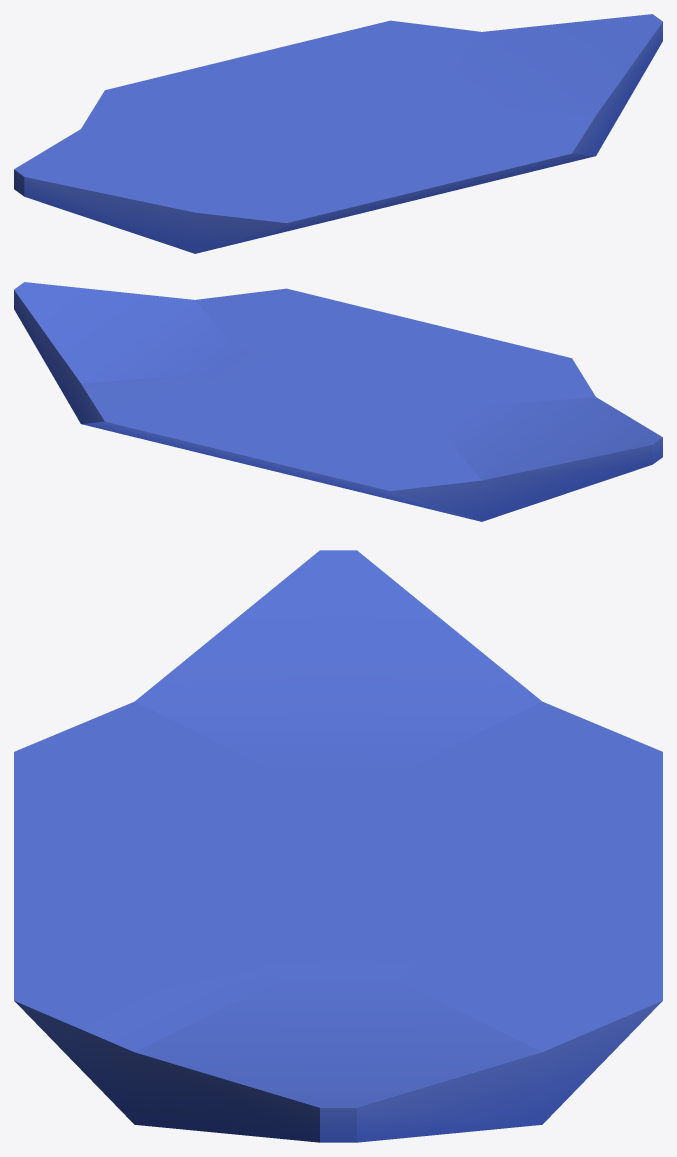
Rendered from Guard_Three.fbx.
The picture shows the model from 3 angles, top to bottom: view 1: azimuth 30°, elevation 25°; view 2: azimuth 150°, elevation 25°; view 3: azimuth 270°, elevation 25°; orthographic projection. The views are drawn at different scales.
Visible parts, largest first — view 1: Guard_Three; view 2: Guard_Three; view 3: Guard_Three.
Boxes of the visible parts, left/top/right/bottom form: Guard_Three: left=14, top=14, right=662, bottom=253; Guard_Three: left=14, top=282, right=662, bottom=521; Guard_Three: left=14, top=550, right=662, bottom=1142.
Bounding box in the file's own units: 2.71 × 0.2755 × 1.33.
